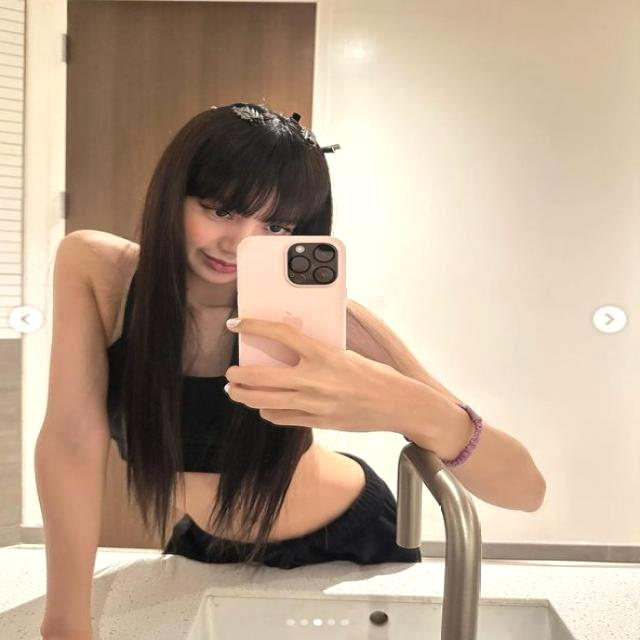lens: (289, 243, 339, 288)
phone: (230, 230, 352, 408)
